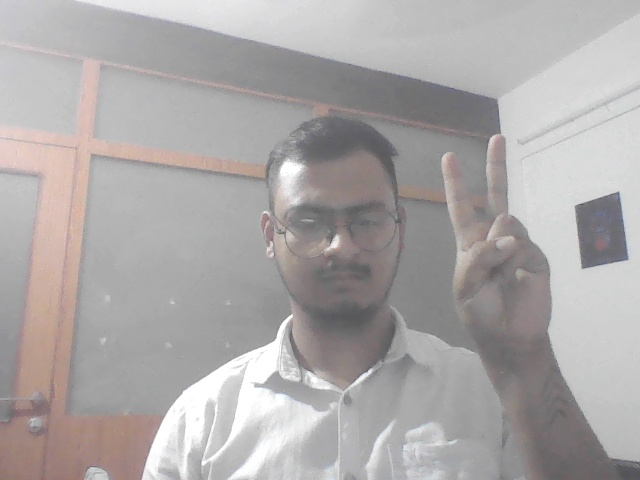Peace: (421, 126, 568, 358)
